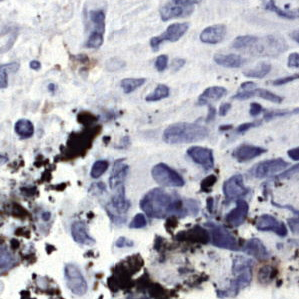Lymphocyte: (180, 225, 211, 247)
